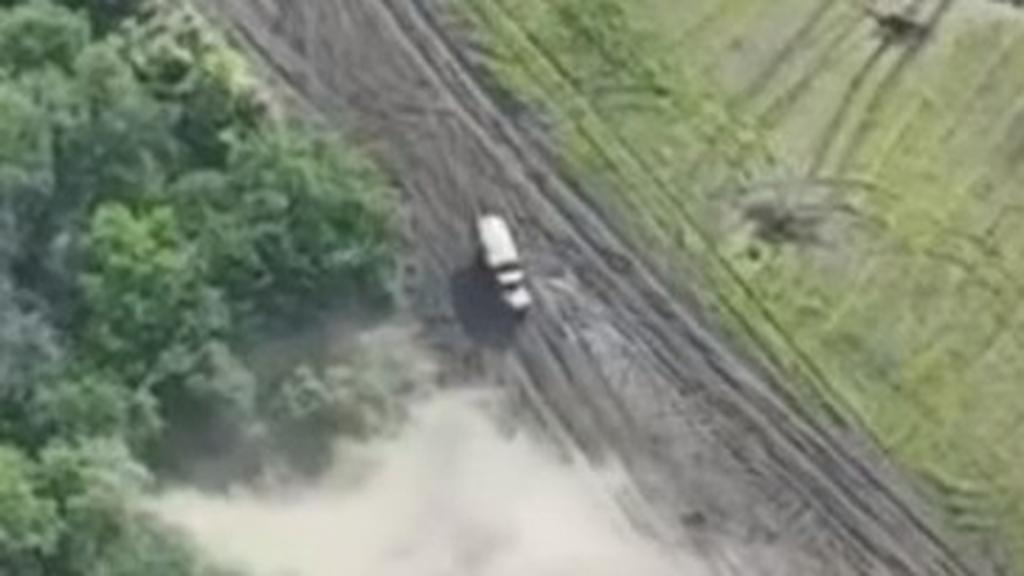TRUCK: (470, 208, 532, 316)
